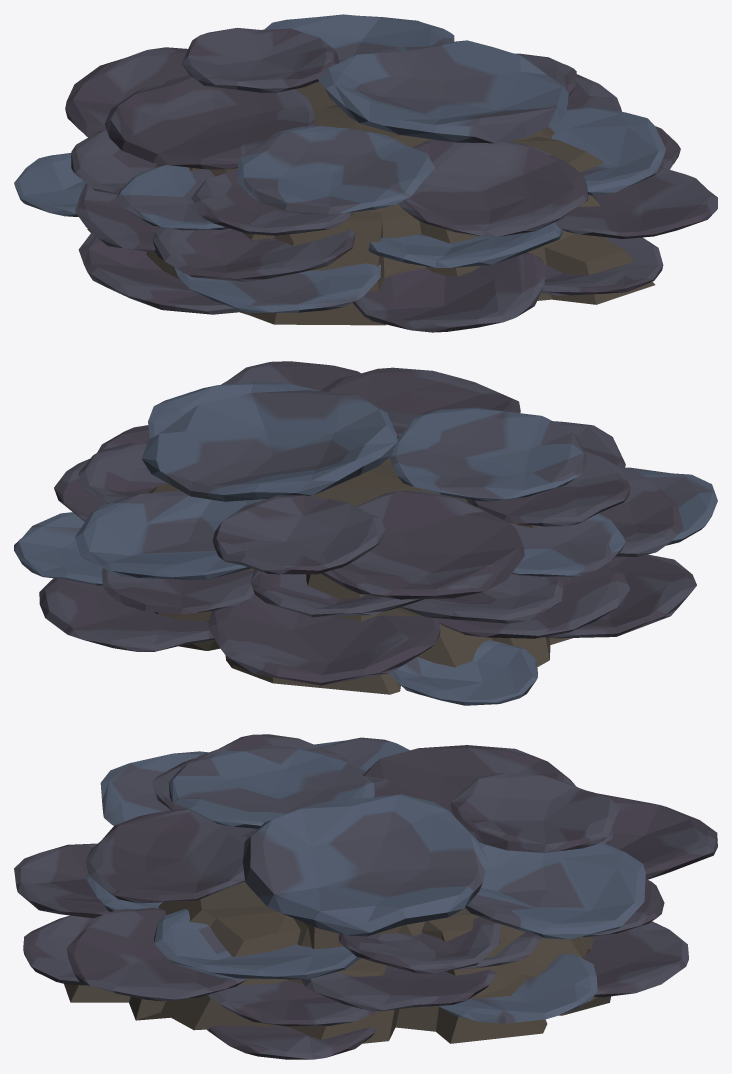
File: SM_Env_Coral_03.fbx
3 views of the same model, one above another, from view 1: azimuth 30°, elevation 25°; view 2: azimuth 150°, elevation 25°; view 3: azimuth 270°, elevation 25° (orthographic). The views are drawn at different scales.
Parts seen in each view (by area): view 1: SM_Env_Coral_03; view 2: SM_Env_Coral_03; view 3: SM_Env_Coral_03.
Boxes of the visible parts, <box> form: SM_Env_Coral_03: <box>14,14,717,332</box>; SM_Env_Coral_03: <box>14,361,717,705</box>; SM_Env_Coral_03: <box>14,734,717,1059</box>.
Size of the model in its own units: 639 by 147 by 679.
